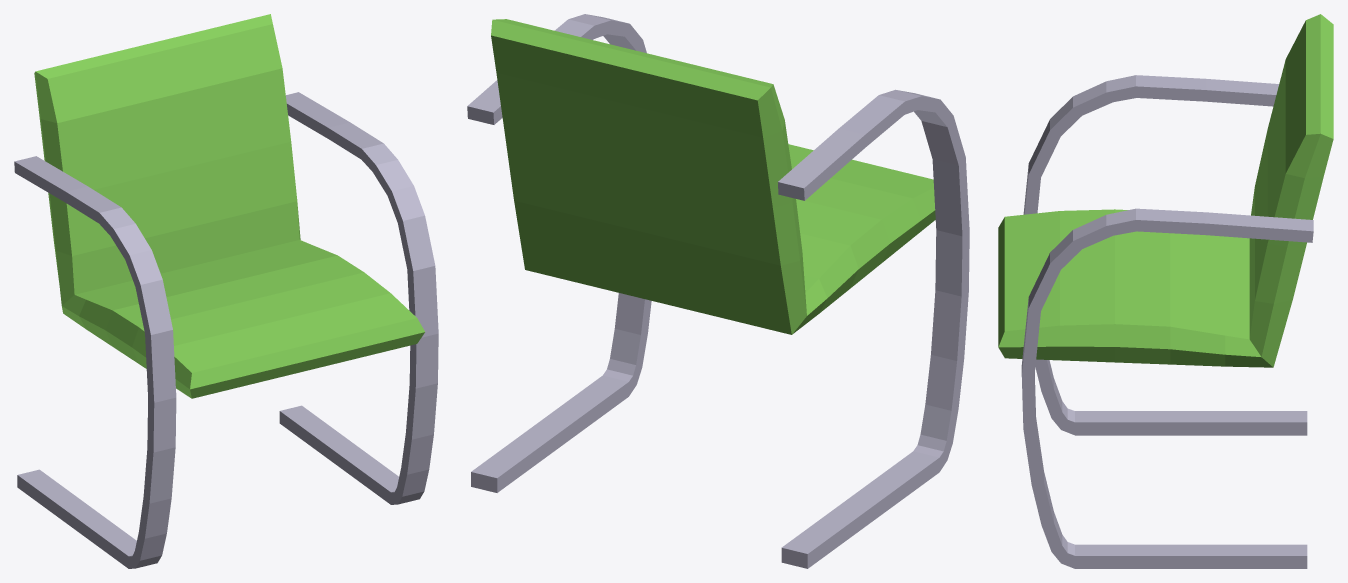
Rendered from Lounge Chair1.fbx.
3 renders of one model, left to right at view 1: azimuth 30°, elevation 25°; view 2: azimuth 150°, elevation 25°; view 3: azimuth 270°, elevation 25°, orthographic. The views are drawn at different scales.
Parts seen in each view (by area): view 1: Lounge Chair1; view 2: Lounge Chair1; view 3: Lounge Chair1.
Boxes of the visible parts, box(x1,y1,x2,y2) form: Lounge Chair1: box(14, 14, 438, 568); Lounge Chair1: box(467, 14, 969, 568); Lounge Chair1: box(998, 14, 1333, 568).
Bounding box in the file's own units: 71.32 × 97.11 × 69.8.
